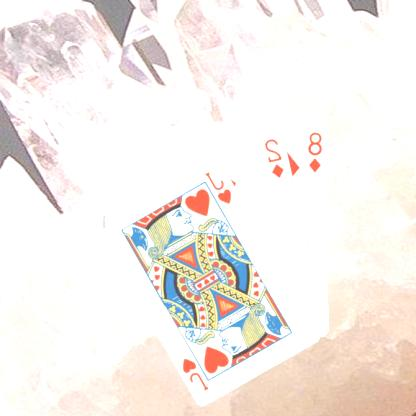2D: (264, 135, 287, 179)
8D: (308, 129, 326, 174)
JH: (204, 168, 235, 206), (181, 354, 212, 392)
